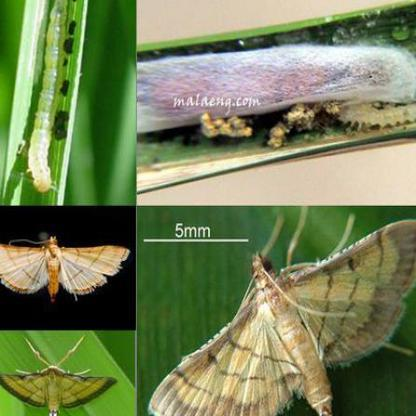leaf-folder: (155, 39, 416, 130), (27, 3, 69, 197)
